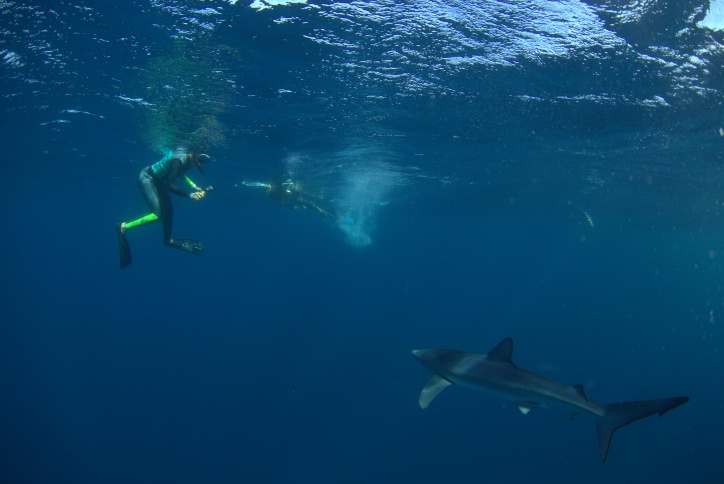Azul: (373, 319, 701, 484)
